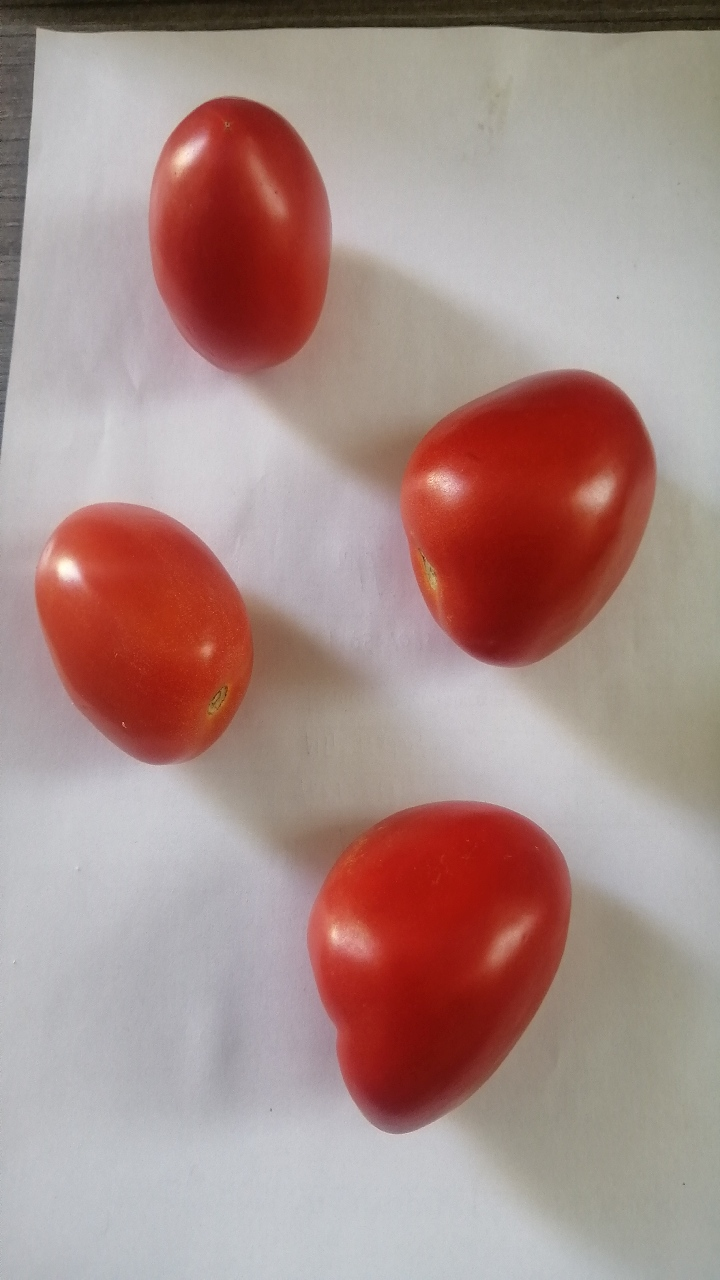tomateRojo: (275, 786, 597, 1166), (380, 355, 674, 702), (21, 479, 255, 779), (141, 71, 346, 400)
